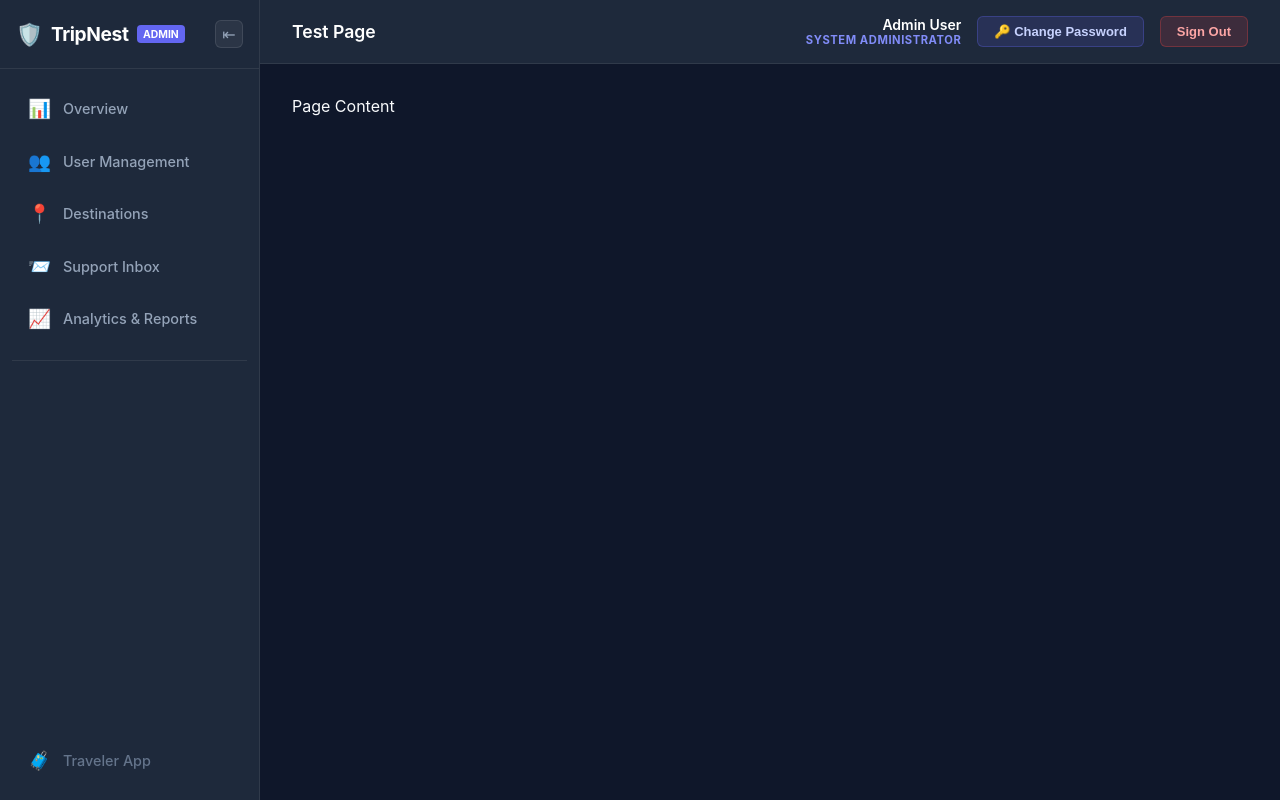
Feature 8: Admin User Deletion & Password Change › AdminLayout Self Password Change › rejects password change when new and confirm passwords do not match
Click the button with aria-label "change admin password" at [1061, 32], box left=977, top=16, right=1144, bottom=47
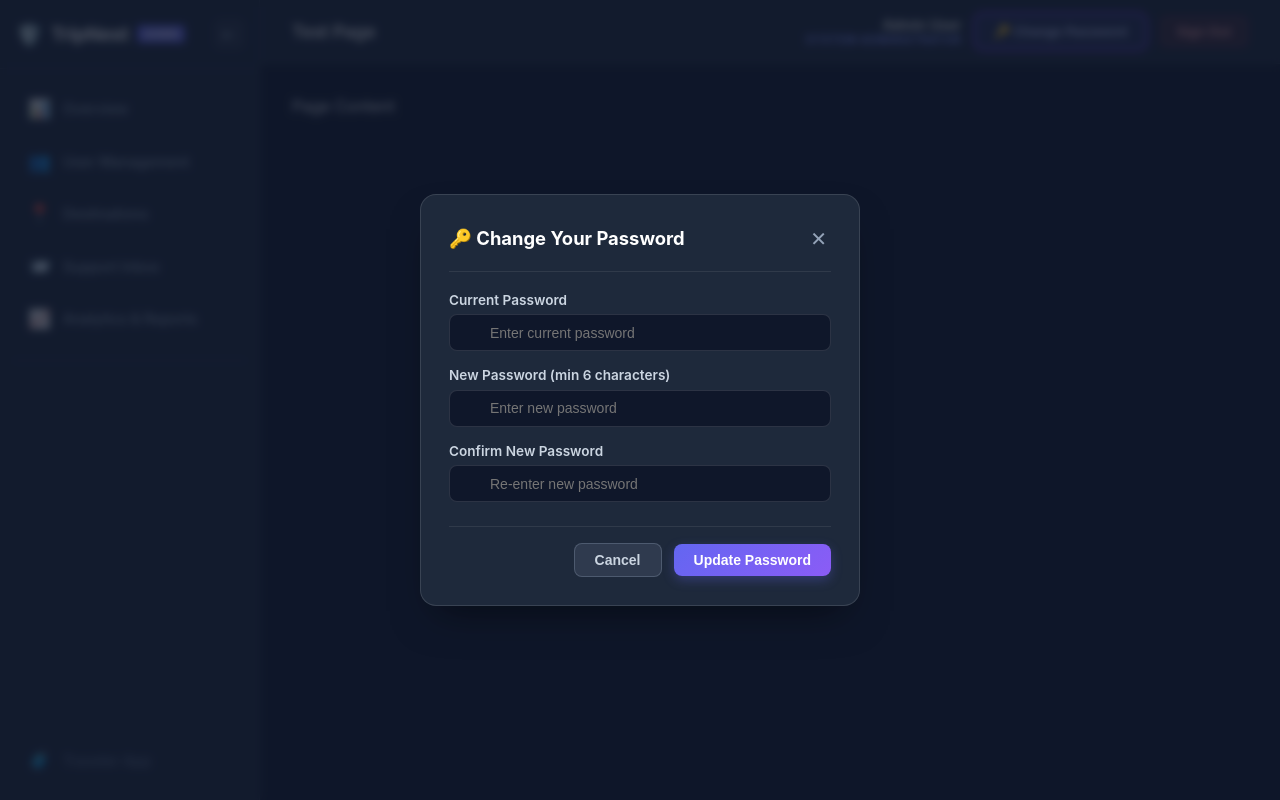
Type "oldAdminPwd123" into the password field labelled "Current Password" at [640, 333], box left=449, top=314, right=831, bottom=351
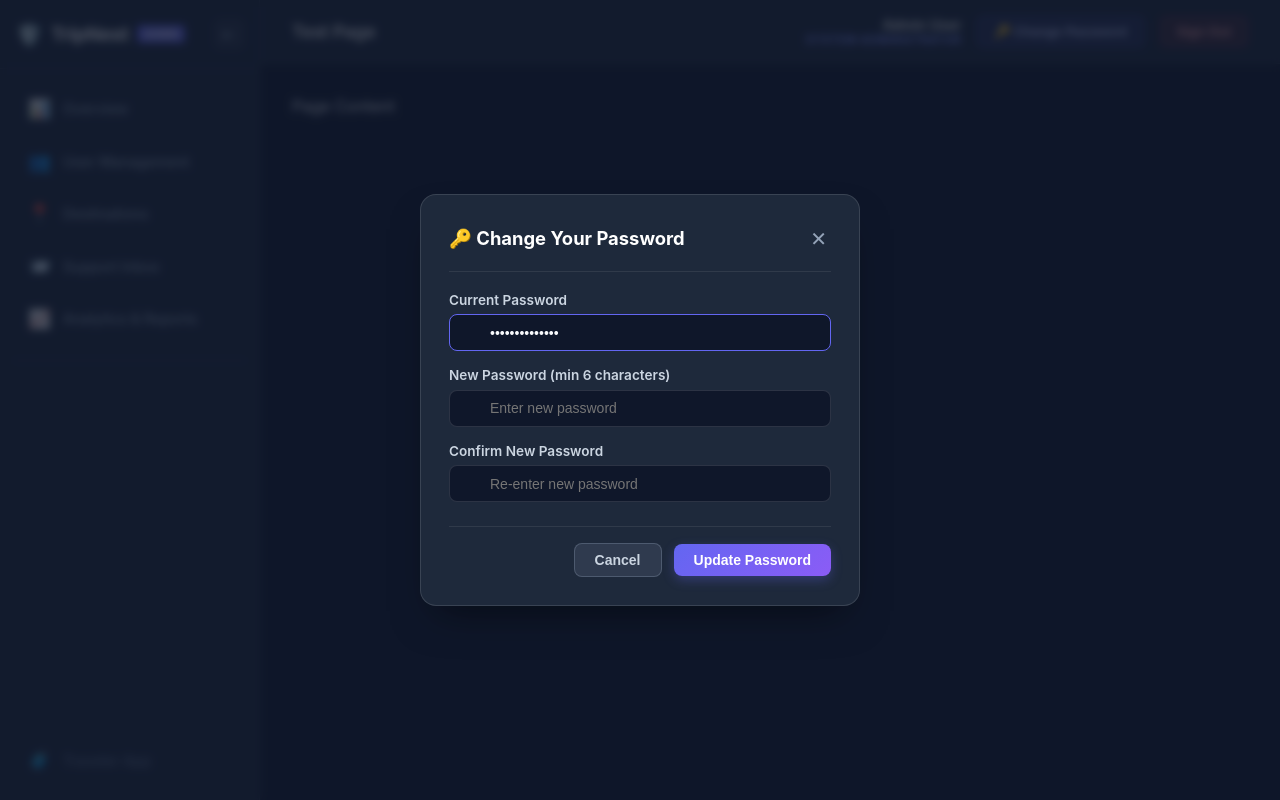
Type "newPassword123" into the password field labelled "New Password (min 6 characters)" at [640, 408], box left=449, top=390, right=831, bottom=427
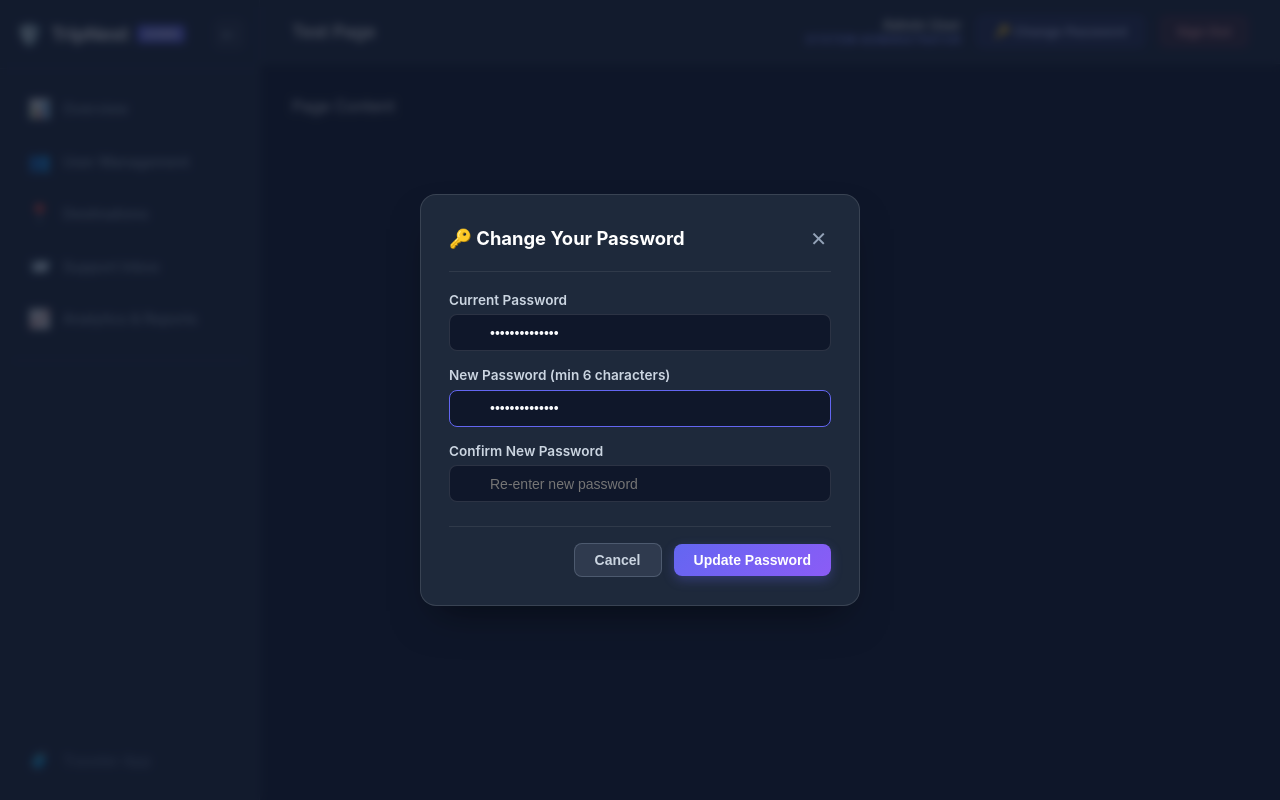
Type "differentPassword" into the password field labelled "Confirm New Password" at [640, 484], box left=449, top=465, right=831, bottom=502
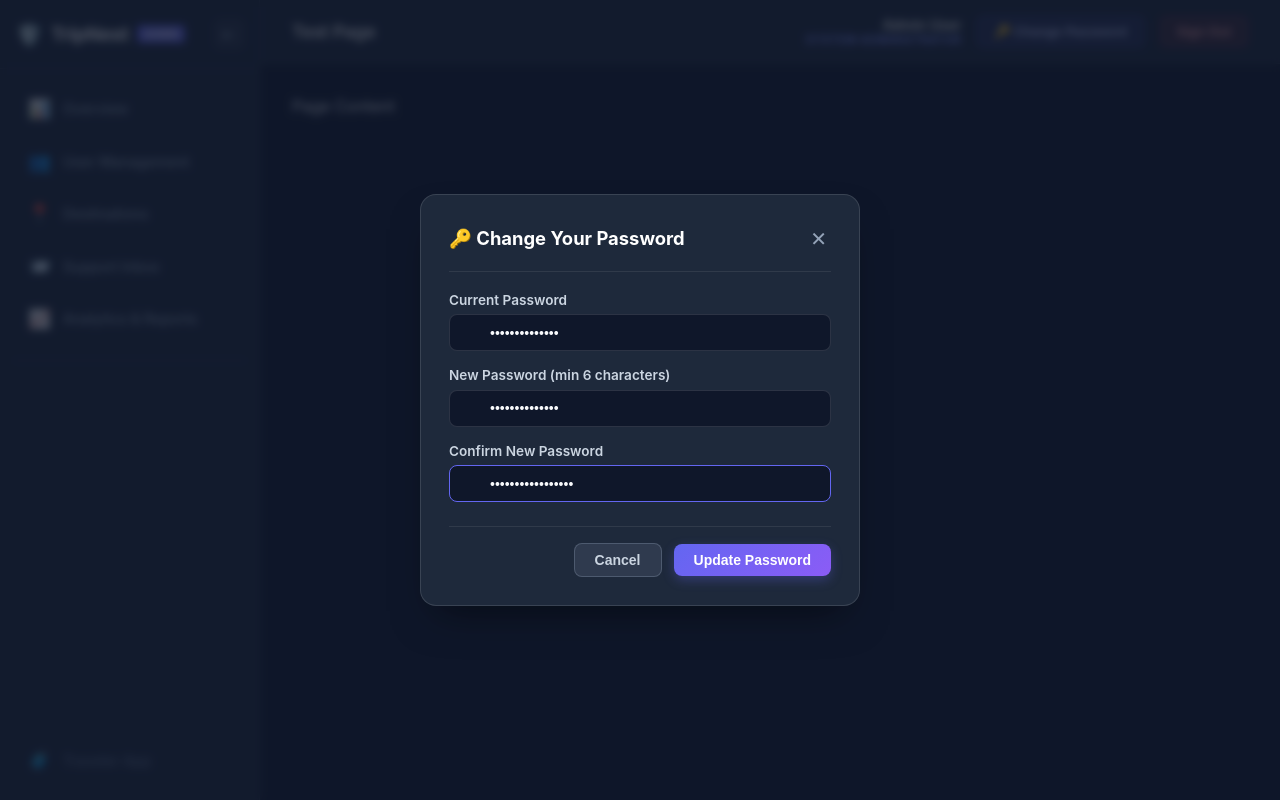
Click the button "Update Password" at [752, 560], box left=674, top=544, right=831, bottom=576
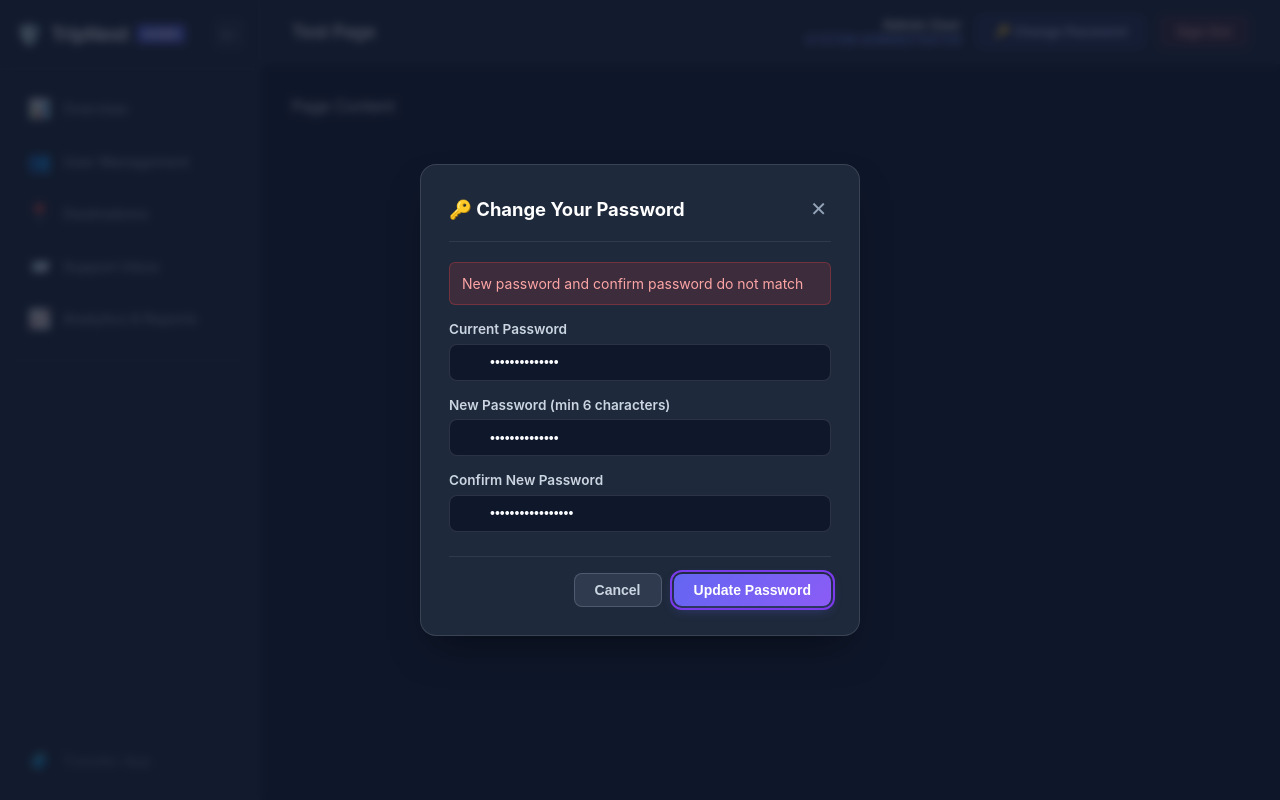
Check: the text "New password and confirm password do not match" is shown, box left=449, top=262, right=831, bottom=305
